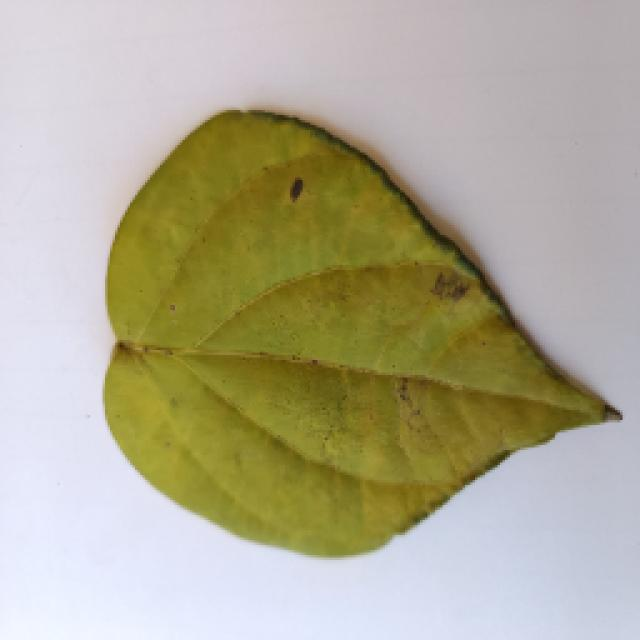slow-decline: (82, 110, 622, 565)
